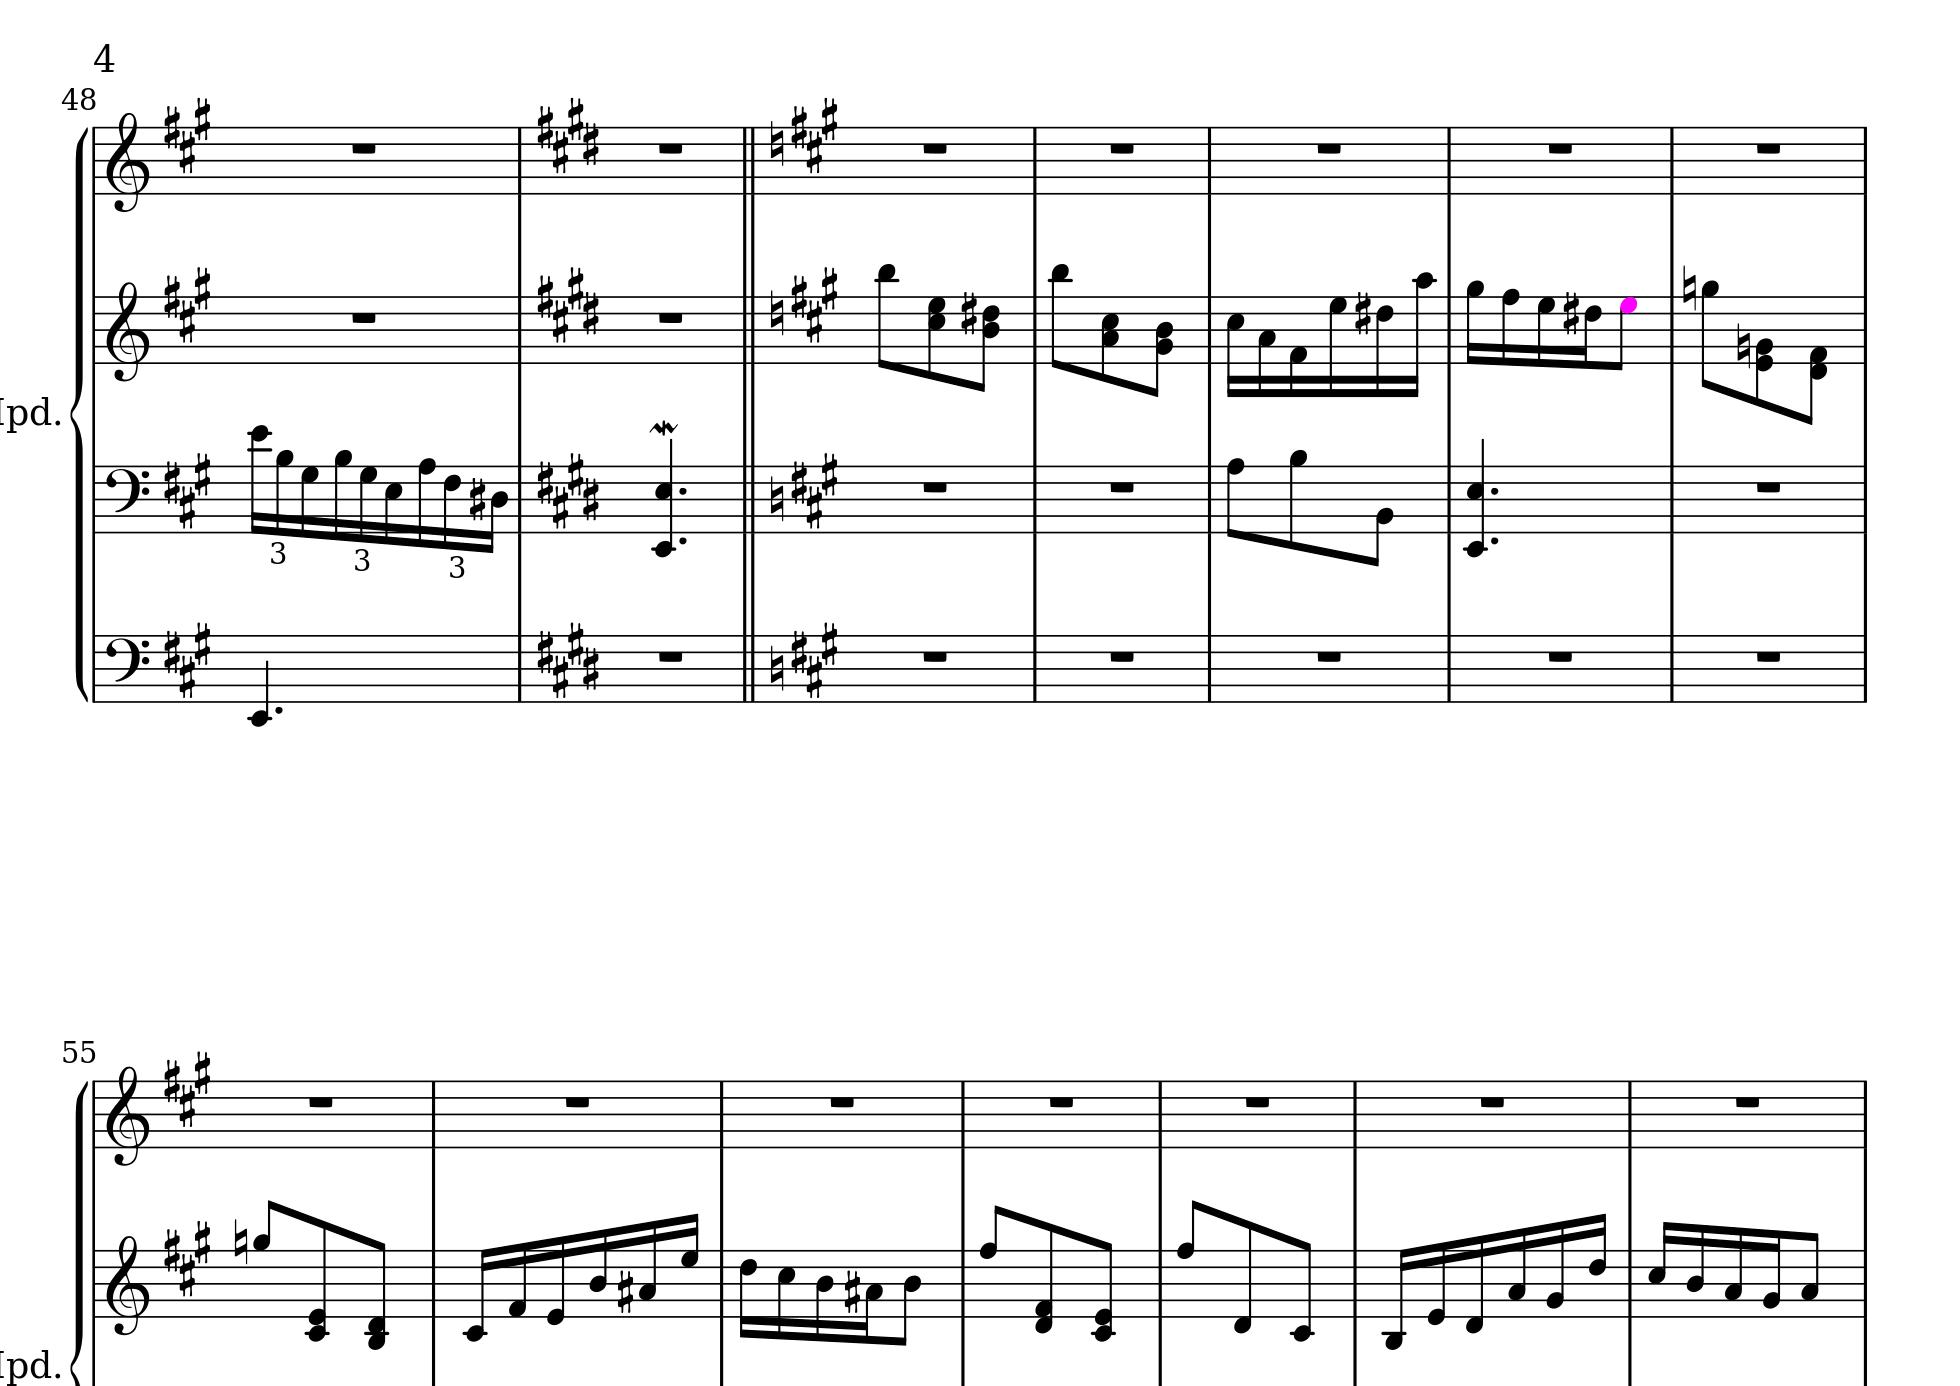16_-1: (1464, 1233, 1488, 1333)
16_-2: (460, 1246, 493, 1342)
16_-3: (1380, 1246, 1413, 1351)
16_0: (543, 1233, 568, 1327), (1423, 1239, 1449, 1326)
16_1: (1287, 294, 1308, 397), (505, 1240, 529, 1320)
16_10: (1404, 270, 1437, 397)
16_12: (247, 423, 271, 535)
16_2: (1545, 1218, 1567, 1318), (1761, 1227, 1783, 1320)
16_3: (858, 1248, 883, 1344), (1255, 295, 1278, 399), (1722, 1224, 1746, 1320), (637, 1216, 660, 1318), (1506, 1224, 1530, 1318)
16_4: (1686, 1221, 1710, 1320), (586, 1225, 610, 1318), (484, 462, 508, 553), (813, 1246, 835, 1344)
16_5: (1647, 1219, 1677, 1318), (1225, 294, 1246, 397), (775, 1246, 796, 1341), (382, 463, 403, 547)
16_6: (1587, 1210, 1611, 1318), (1374, 292, 1395, 399), (736, 1246, 759, 1339), (1578, 295, 1603, 370), (442, 462, 462, 550)
16_7: (1326, 292, 1348, 399), (679, 1212, 700, 1321), (298, 463, 319, 541), (1536, 294, 1557, 370), (358, 463, 378, 544)
16_8: (415, 456, 436, 550), (1500, 286, 1521, 367)
16_9: (331, 448, 352, 541), (1464, 277, 1485, 367), (274, 448, 294, 535)
3: (268, 541, 286, 565), (448, 555, 465, 580), (354, 547, 370, 571)
4: (93, 40, 115, 72), (60, 85, 78, 112)
4_-2: (246, 631, 271, 727)
4_-2_5: (651, 438, 679, 558)
5: (61, 1036, 79, 1065), (79, 1036, 97, 1065)
8: (79, 85, 97, 111)
8_-1: (1230, 1216, 1255, 1336)
8_-1_1: (1803, 294, 1830, 424), (1035, 1219, 1056, 1336)
8_-2: (1290, 1234, 1317, 1342)
8_-2_0: (304, 1216, 331, 1342), (1090, 1236, 1119, 1344)
8_-2_4: (1461, 439, 1492, 559)
8_-3_-1: (363, 1237, 391, 1351)
8_0_2: (1755, 295, 1774, 409)
8_11: (874, 261, 900, 373), (1050, 262, 1074, 375)
8_2: (1365, 463, 1395, 568)
8_2_4: (1147, 294, 1174, 397)
8_3: (1800, 1228, 1821, 1320)
8_3_5: (1099, 295, 1120, 385)
8_4: (895, 1248, 922, 1347)
8_4_6: (978, 294, 1003, 394)
8_5_7: (925, 292, 948, 382)
8_7: (1609, 295, 1638, 372)
8_8: (1174, 1198, 1206, 1320), (978, 1203, 1008, 1320), (1224, 456, 1248, 541)
8_9: (250, 1195, 279, 1320), (1287, 447, 1309, 550), (1701, 277, 1720, 391)
A_S: (160, 619, 214, 700), (787, 619, 841, 700), (787, 264, 841, 343), (787, 451, 841, 531), (160, 1048, 214, 1128), (160, 94, 213, 175), (789, 94, 841, 175), (160, 264, 213, 343), (160, 450, 213, 529), (160, 1219, 214, 1296)
Brace: (64, 124, 93, 702)
Bracke: (73, 1057, 100, 1386)
Double_barline: (735, 295, 760, 363), (735, 634, 760, 702), (736, 126, 760, 193), (736, 465, 760, 532)
E_S: (535, 618, 601, 702), (535, 262, 603, 343), (535, 94, 601, 174), (537, 450, 601, 529)
Fclef: (105, 463, 151, 535), (105, 633, 151, 703)
Gclef: (105, 1233, 151, 1336), (105, 109, 150, 214), (105, 1063, 150, 1168), (105, 279, 150, 382)
Mordent: (648, 417, 679, 436)
Natural: (766, 472, 787, 523), (766, 642, 787, 693), (766, 118, 786, 169), (766, 286, 786, 337), (1680, 262, 1698, 313), (231, 1215, 249, 1266), (1735, 321, 1752, 370)
Rests1: (654, 307, 687, 327), (561, 1092, 594, 1111), (1045, 1092, 1078, 1111), (1242, 1092, 1275, 1111), (1476, 1092, 1509, 1111), (1731, 1092, 1764, 1111), (652, 646, 687, 664), (348, 307, 379, 327), (826, 1092, 858, 1111), (654, 139, 687, 157), (918, 139, 951, 157), (1107, 139, 1140, 157), (1752, 139, 1785, 157), (918, 478, 951, 496), (1107, 478, 1140, 496), (1752, 477, 1785, 495), (918, 646, 951, 664), (1314, 646, 1347, 664), (1545, 646, 1578, 664), (1752, 646, 1785, 664), (304, 1092, 337, 1110), (348, 139, 379, 157), (1314, 139, 1345, 157), (1545, 139, 1576, 157), (1107, 646, 1138, 664)
Sharp: (958, 288, 979, 339), (1353, 289, 1372, 337), (1561, 289, 1581, 337), (468, 475, 487, 522), (841, 1267, 861, 1314), (616, 1267, 634, 1315)
Single_barline: (1026, 295, 1044, 364), (712, 1249, 730, 1318), (1152, 1249, 1170, 1318), (1026, 465, 1044, 532), (1201, 465, 1219, 532), (1026, 634, 1044, 702), (424, 1249, 442, 1317), (955, 1249, 973, 1317), (1026, 127, 1044, 193), (1440, 466, 1458, 532), (712, 1081, 730, 1147), (1441, 295, 1458, 364), (511, 463, 528, 532), (1347, 1249, 1363, 1318), (1857, 1249, 1873, 1318), (1857, 295, 1873, 363), (1663, 465, 1680, 532), (1855, 634, 1872, 702), (1201, 634, 1218, 702), (1663, 634, 1680, 702), (954, 1080, 970, 1147), (1152, 1080, 1168, 1147), (1347, 1080, 1363, 1147), (1857, 1080, 1873, 1147), (87, 1249, 103, 1317), (1623, 1249, 1639, 1317), (511, 127, 528, 193), (1201, 127, 1218, 193), (1663, 127, 1680, 193), (1201, 295, 1218, 361), (511, 297, 528, 363), (511, 634, 528, 700), (1441, 634, 1458, 700), (424, 1080, 441, 1146), (1441, 127, 1458, 192), (1665, 295, 1680, 364), (1857, 465, 1872, 534), (1857, 126, 1872, 193), (88, 634, 103, 702), (88, 1080, 103, 1147), (88, 466, 103, 532), (1623, 1081, 1638, 1147), (88, 126, 102, 193), (88, 295, 102, 363)
dot: (676, 483, 690, 498), (1488, 484, 1501, 498), (1489, 532, 1501, 547), (676, 532, 688, 547), (271, 703, 285, 715)
